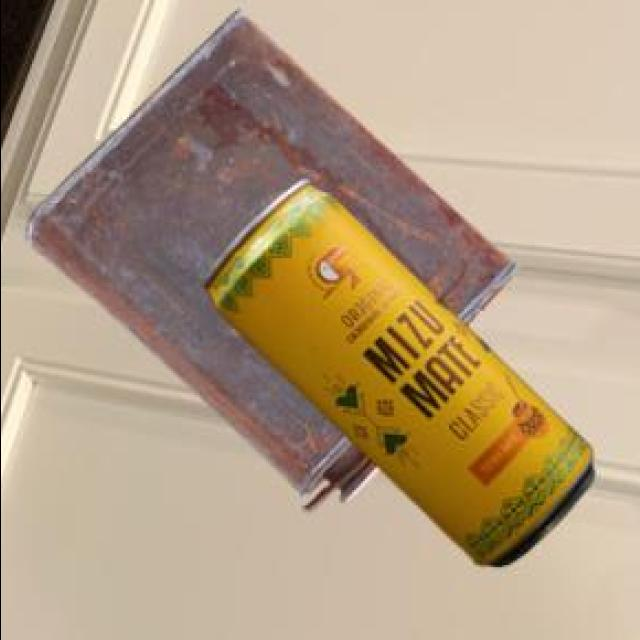logam: (30, 8, 520, 509), (206, 175, 597, 564)
